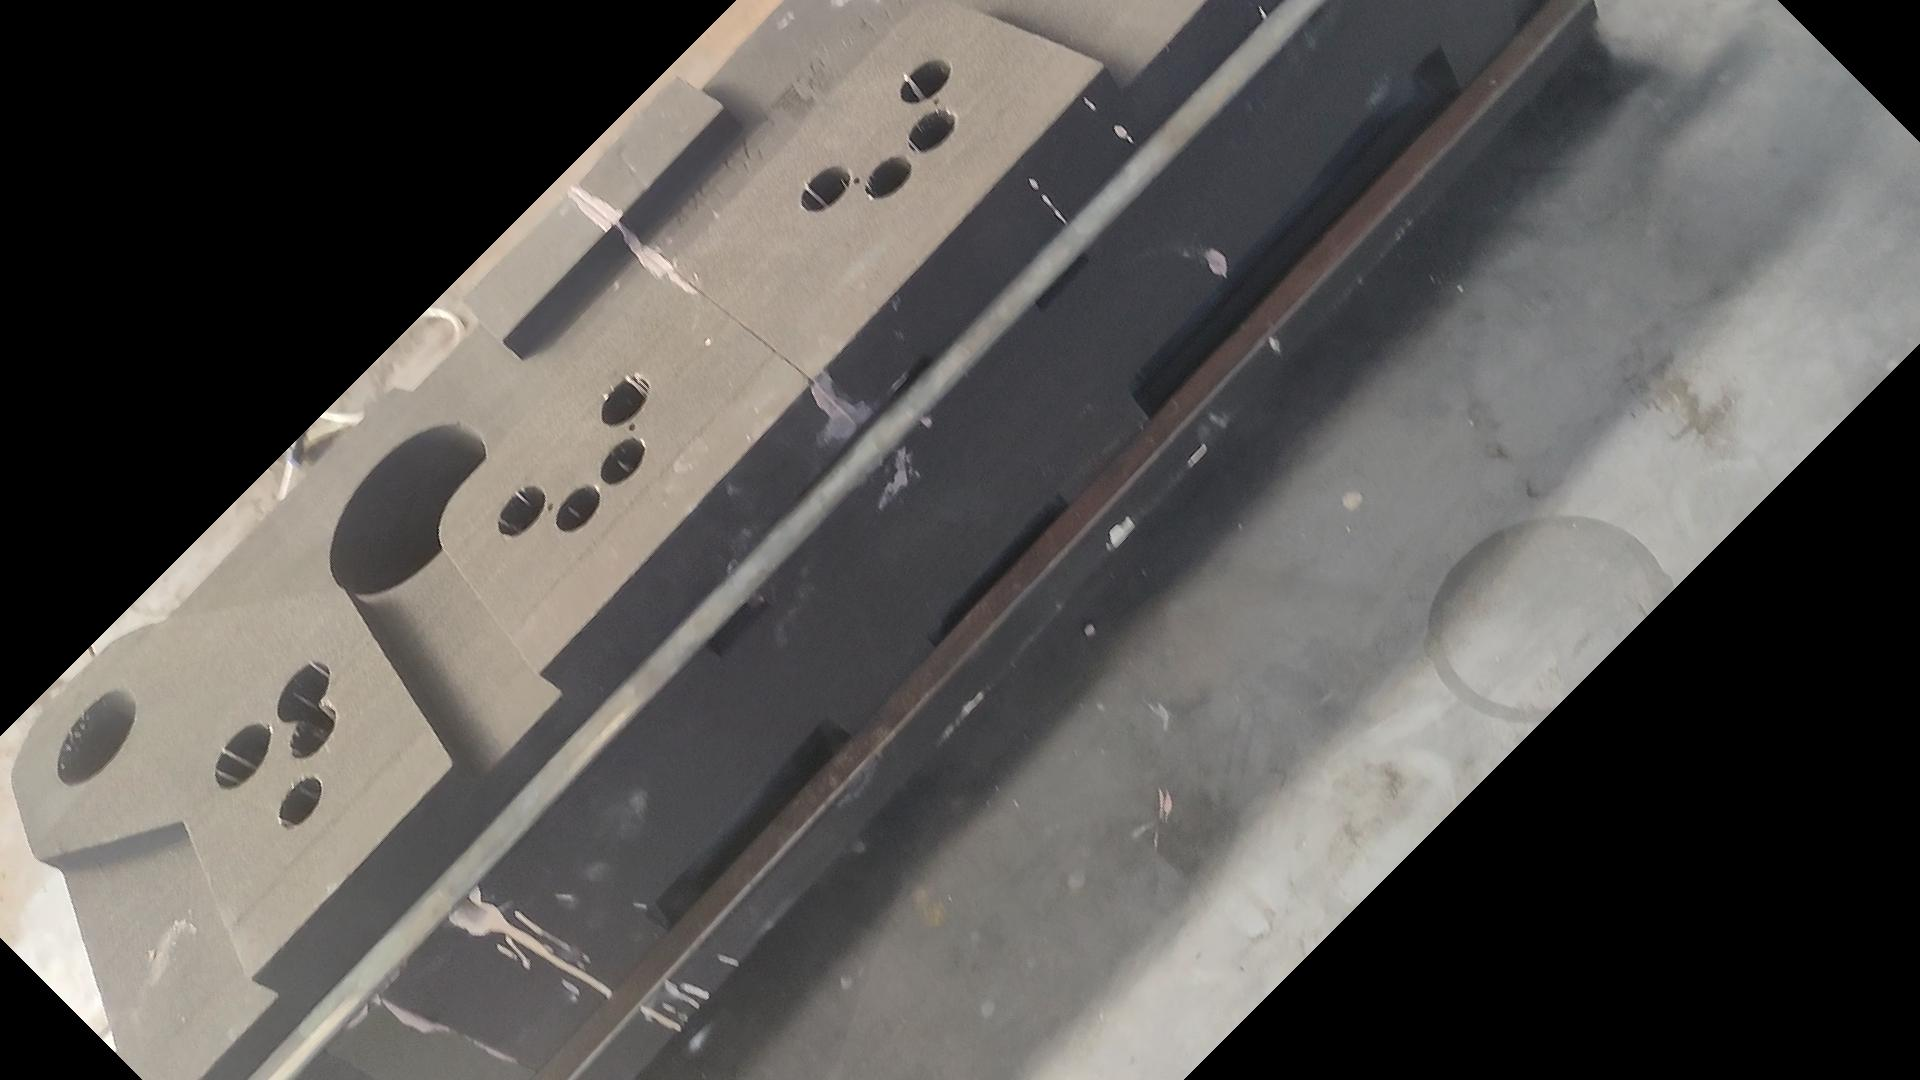pouring hole: (55, 686, 136, 786)
